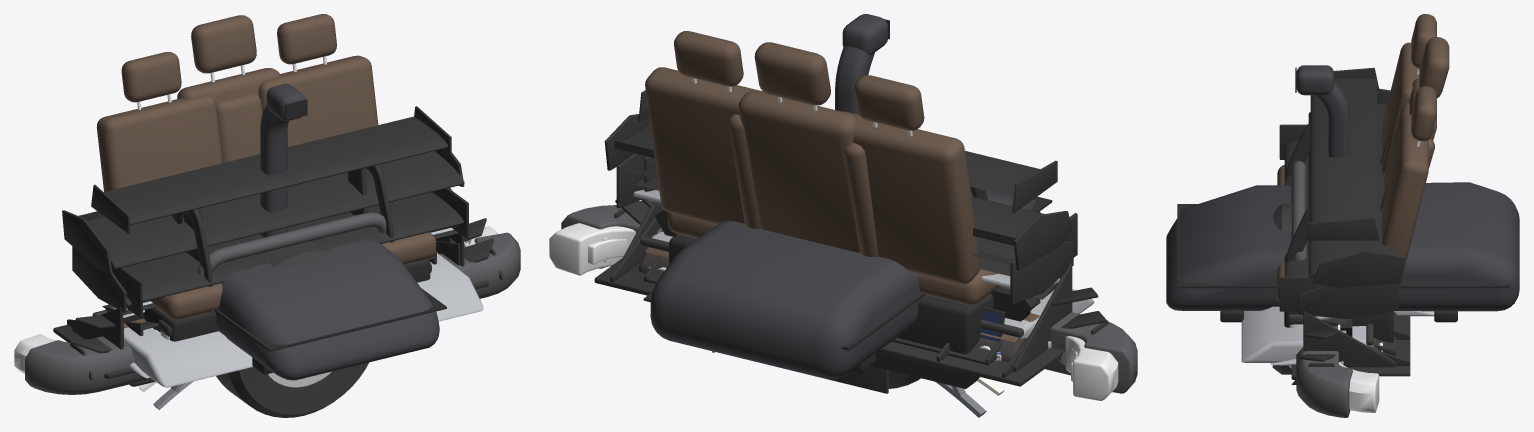
File: car_parts.glb
The picture shows the model from 3 angles, left to right: view 1: azimuth 30°, elevation 25°; view 2: azimuth 150°, elevation 25°; view 3: azimuth 270°, elevation 25°; orthographic projection. The views are drawn at different scales.
Parts seen in each view (by area): view 1: part_roof_box_shell, part_seat_rear_back, part_spoiler_swan_wing, part_spoiler_tall_wing, part_spoiler_whale_tray, part_spoiler_wing_wing, part_bumper_offroad_front_bar, part_spare_wheel_tire, part_seat_rear_headrests, part_seat_front_headrest, part_bullbar_tubes, part_seat_rear_cushion (+15 smaller); view 2: part_roof_box_shell, part_seat_rear_back, part_seat_front_back, part_seat_rear_headrests, part_bumper_american_bar, part_bumper_offroad_front_bar, part_seat_front_back_bolsters, part_seat_rear_base, part_seat_front_headrest, part_diffuser_race_plate, part_spoiler_biplane_endplates, part_spoiler_swan_endplates (+21 smaller); view 3: part_roof_box_shell, part_spoiler_tall_wing, part_seat_rear_back, part_spoiler_whale_tray, part_spoiler_biplane_endplates, part_spoiler_swan_endplates, part_bumper_offroad_front_bar, part_spoiler_swan_wing, part_diffuser_blade_sides, part_seat_rear_headrests, part_spoiler_tall_endplates, part_snorkel_pipe (+13 smaller).
Part boxes in pixels (left/top/right/bottom): part_roof_box_shell: left=215, top=240, right=439, bottom=380; part_seat_rear_back: left=96, top=55, right=378, bottom=191; part_spoiler_swan_wing: left=87, top=151, right=464, bottom=269; part_spoiler_tall_wing: left=104, top=116, right=448, bottom=225; part_spoiler_whale_tray: left=124, top=253, right=483, bottom=387; part_spoiler_wing_wing: left=123, top=192, right=463, bottom=301; part_bumper_offroad_front_bar: left=25, top=232, right=520, bottom=394; part_spare_wheel_tire: left=216, top=241, right=368, bottom=417; part_seat_rear_headrests: left=121, top=14, right=336, bottom=102; part_seat_front_headrest: left=191, top=15, right=256, bottom=73; part_bullbar_tubes: left=197, top=212, right=386, bottom=276; part_seat_rear_cushion: left=151, top=232, right=436, bottom=319; part_roof_box_shell: left=650, top=188, right=1040, bottom=379; part_seat_rear_back: left=645, top=67, right=980, bottom=283; part_seat_front_back: left=738, top=91, right=860, bottom=252; part_seat_rear_headrests: left=674, top=31, right=924, bottom=130; part_bumper_american_bar: left=549, top=223, right=1118, bottom=400; part_bumper_offroad_front_bar: left=561, top=205, right=1137, bottom=393; part_seat_front_back_bolsters: left=728, top=114, right=878, bottom=256; part_seat_rear_base: left=669, top=234, right=993, bottom=353; part_seat_front_headrest: left=754, top=42, right=830, bottom=105; part_diffuser_race_plate: left=594, top=258, right=1064, bottom=386; part_spoiler_biplane_endplates: left=616, top=153, right=1073, bottom=304; part_spoiler_swan_endplates: left=604, top=114, right=1072, bottom=270; part_roof_box_shell: left=1166, top=182, right=1519, bottom=311; part_spoiler_tall_wing: left=1310, top=78, right=1376, bottom=226; part_seat_rear_back: left=1382, top=42, right=1428, bottom=278; part_spoiler_whale_tray: left=1241, top=306, right=1368, bottom=362; part_spoiler_biplane_endplates: left=1298, top=283, right=1398, bottom=318; part_spoiler_swan_endplates: left=1313, top=88, right=1405, bottom=287; part_bumper_offroad_front_bar: left=1296, top=347, right=1352, bottom=417; part_spoiler_swan_wing: left=1308, top=103, right=1392, bottom=278; part_diffuser_blade_sides: left=1303, top=311, right=1395, bottom=367; part_seat_rear_headrests: left=1411, top=14, right=1436, bottom=141; part_spoiler_tall_endplates: left=1308, top=67, right=1379, bottom=240; part_snorkel_pipe: left=1316, top=81, right=1349, bottom=157.
Bounding box in the file's own units: 2.27 × 1.48 × 1.49.
